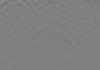hyperbola: (19, 22, 86, 62)
